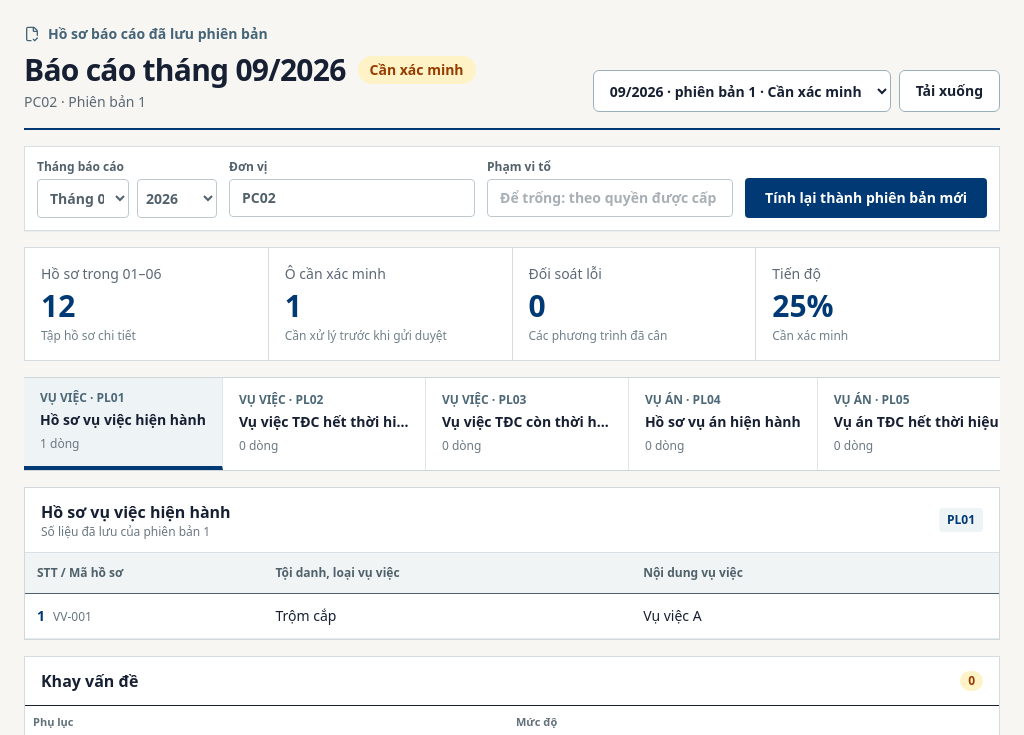
it: MonthlyReportWorkspacePage › switches appendices without refetching the report or flashing the loading screen
Expected: the column heading "Tội danh, loại vụ việc" is shown, [263,553,631,594]
Click the button with aria-label "Phụ lục 04:": [723, 424] box [629,378,818,470]
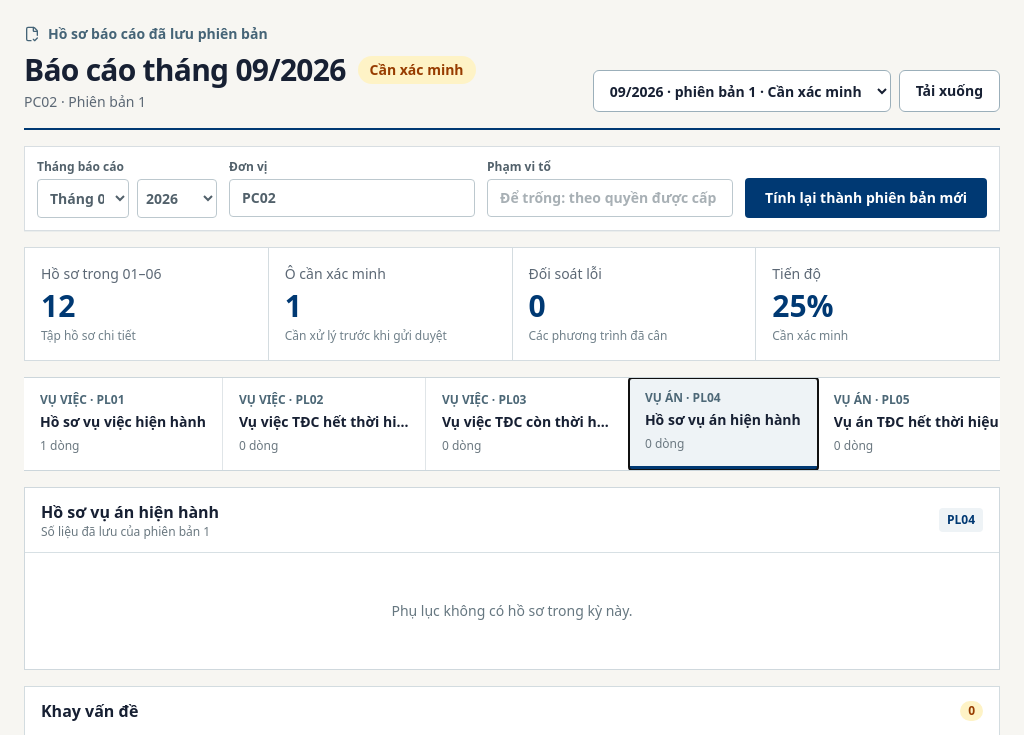
Now the heading "Hồ sơ vụ án hiện hành" is shown, box [41,500,219,524]
